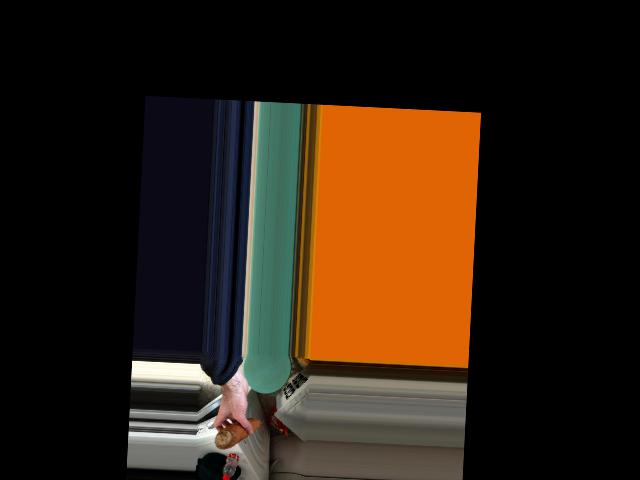sweet_potato: (214, 417, 261, 452)
